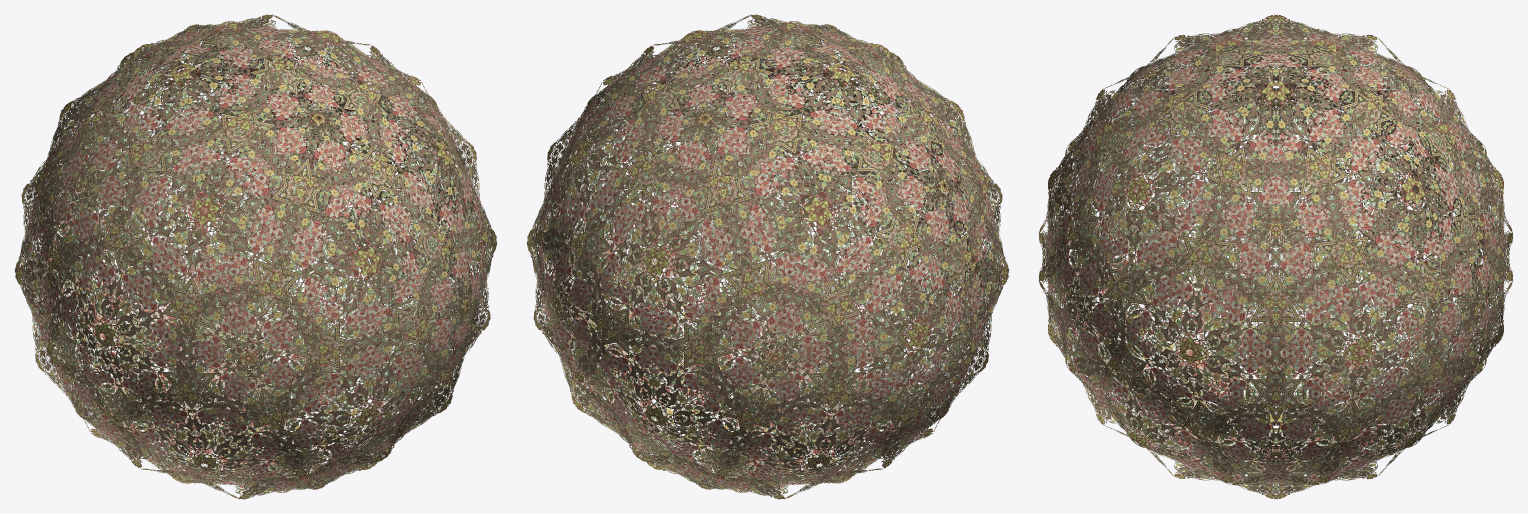
Rendered from SmallHexagonalHexecontahedron8.gltf.
The picture shows the model from 3 angles, left to right: view 1: azimuth 30°, elevation 25°; view 2: azimuth 150°, elevation 25°; view 3: azimuth 270°, elevation 25°; orthographic projection.
Parts seen in each view (by area): view 1: SmallHexagonalHexecontahedron; view 2: SmallHexagonalHexecontahedron; view 3: SmallHexagonalHexecontahedron.
Boxes of the visible parts, box(x1,y1,x2,y2) form: SmallHexagonalHexecontahedron: box(14, 14, 497, 499); SmallHexagonalHexecontahedron: box(526, 14, 1009, 499); SmallHexagonalHexecontahedron: box(1038, 14, 1512, 499).
Bounding box in the file's own units: 2.73 × 2.73 × 2.73.
Materials: 1 (1 with a texture image).
